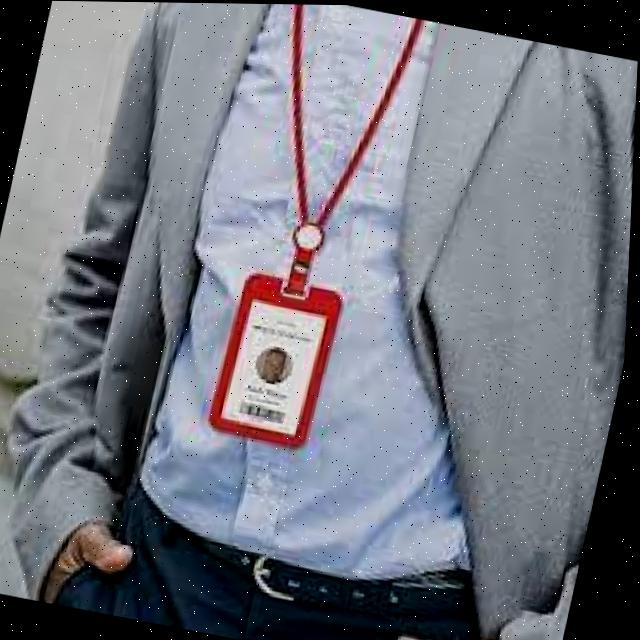id_card: (192, 2, 423, 458)
